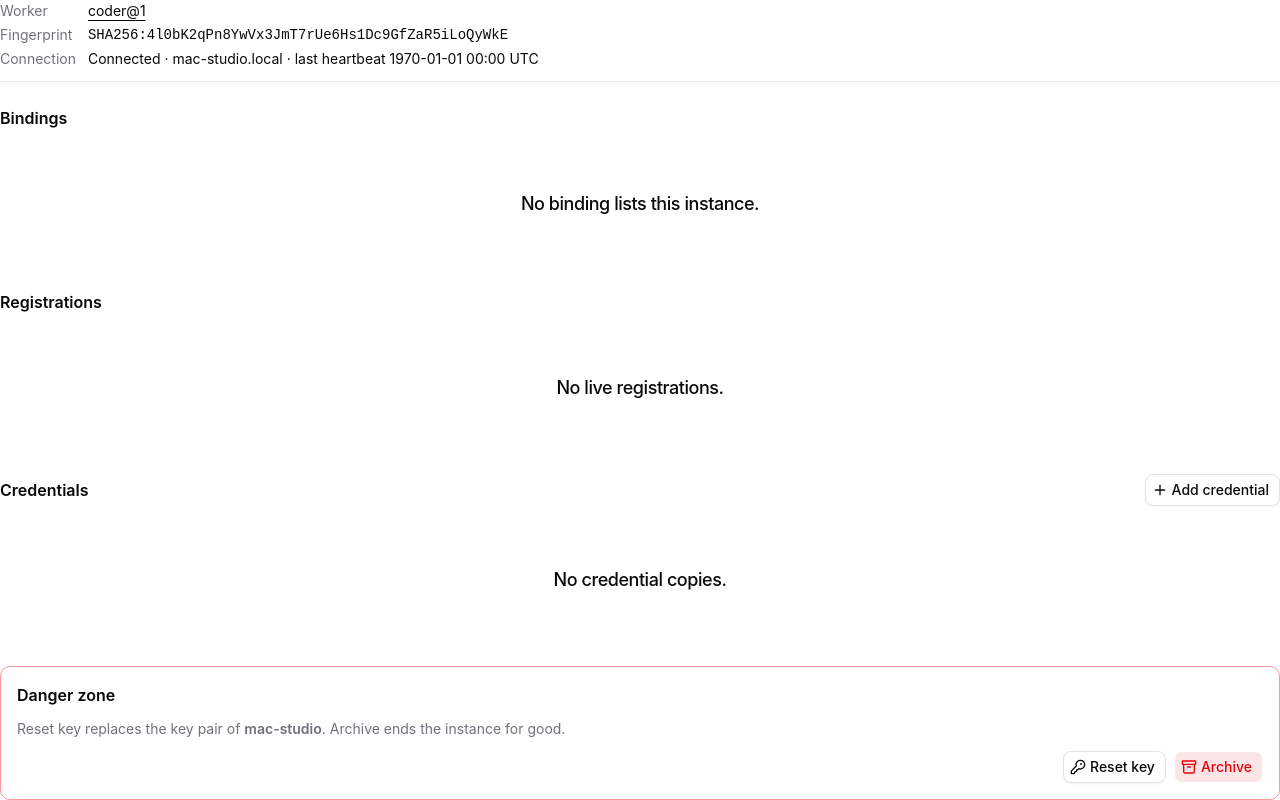
Test: InstanceScreen › shows the bindings of an in_use refusal
The width and height of the screenshot is (1280, 800).
(page scrolled)
Click the button "Archive" at (1218,767), box 1174,751 -> 1263,783
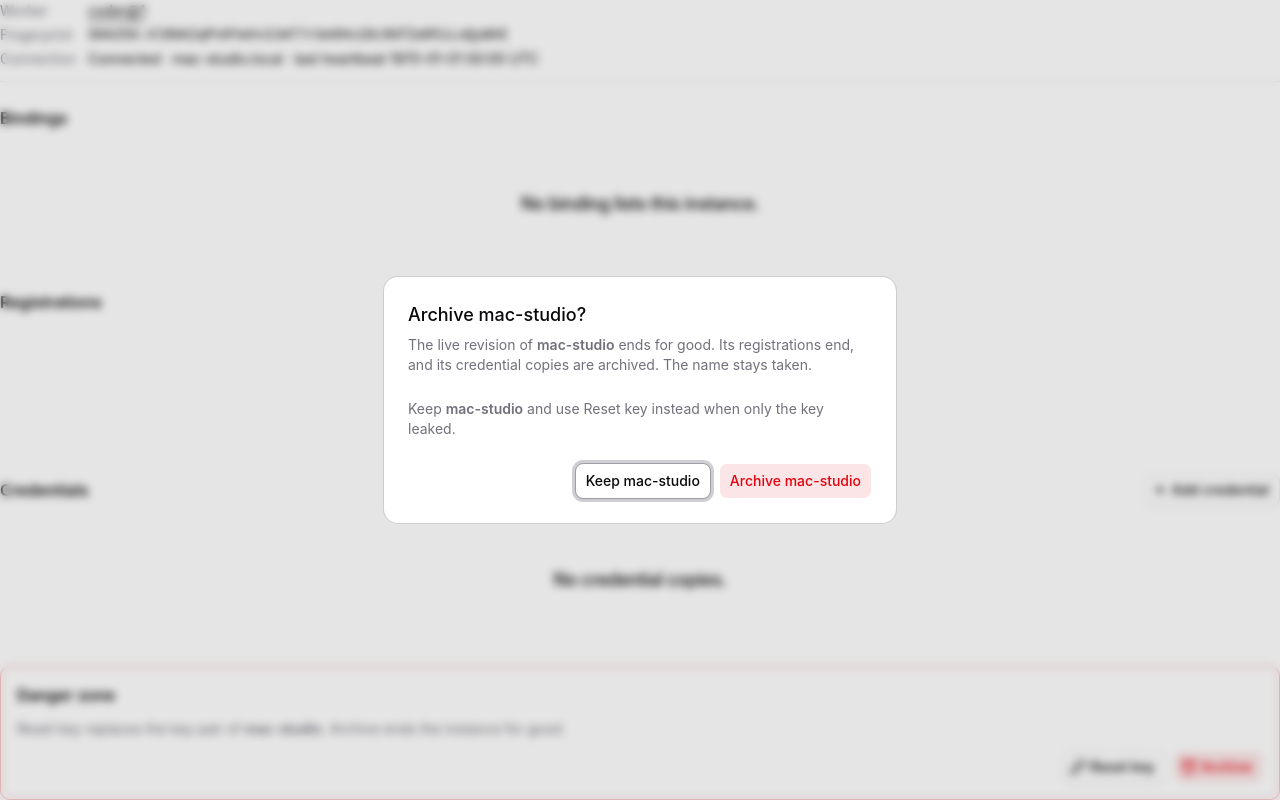
Click the button "Archive mac-studio" at (795,481), box 719,463 -> 872,499
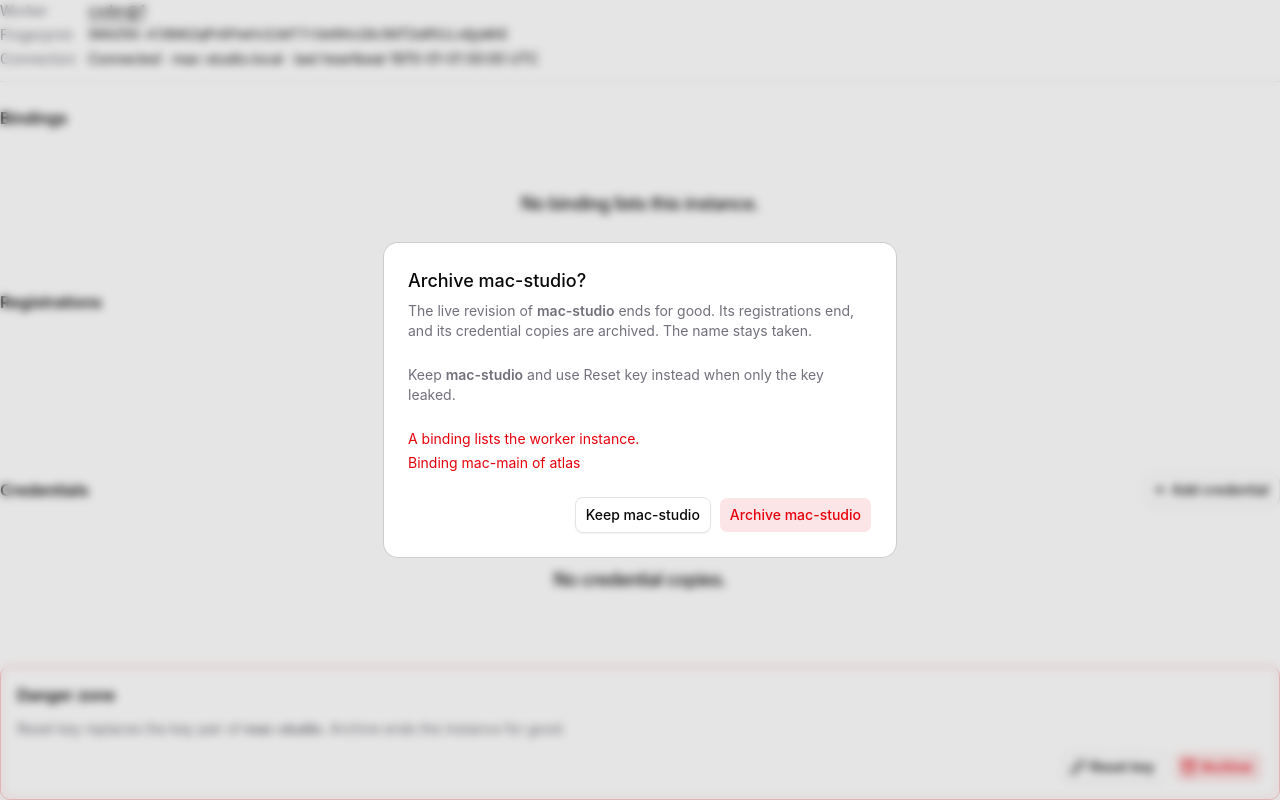
Expected: the text "Binding mac-main of atlas" is shown, 408,454 -> 580,471
